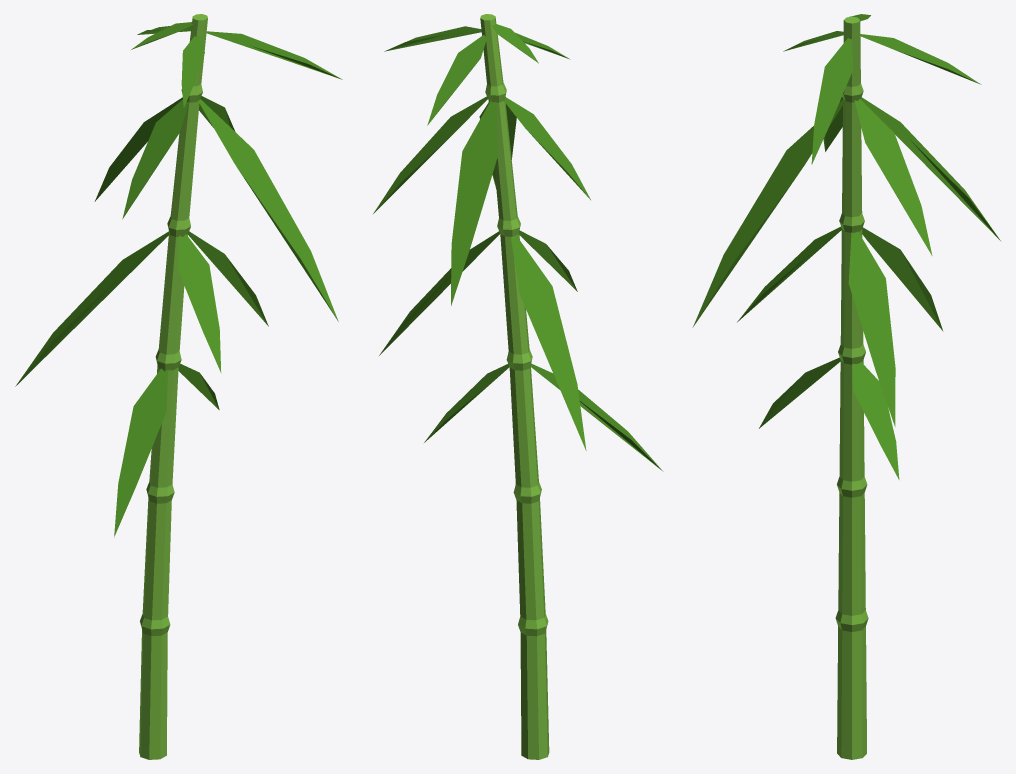
The model's file is Bamboo.fbx.
3 renders of one model, left to right at view 1: azimuth 30°, elevation 25°; view 2: azimuth 150°, elevation 25°; view 3: azimuth 270°, elevation 25°, orthographic. The views are drawn at different scales.
Parts seen in each view (by area): view 1: Bamboo_BambooLeafMat.003, Bamboo_BambooStalkMat.003; view 2: Bamboo_BambooLeafMat.003, Bamboo_BambooStalkMat.003; view 3: Bamboo_BambooLeafMat.003, Bamboo_BambooStalkMat.003.
Part boxes in pixels (x1,y1,x2,y2): Bamboo_BambooLeafMat.003: (15,22,342,537); Bamboo_BambooStalkMat.003: (139,14,207,759); Bamboo_BambooLeafMat.003: (373,24,663,471); Bamboo_BambooStalkMat.003: (480,14,549,759); Bamboo_BambooLeafMat.003: (692,14,1000,479); Bamboo_BambooStalkMat.003: (835,16,868,759).
Bounding box in the file's own units: 346 × 900 × 333.
